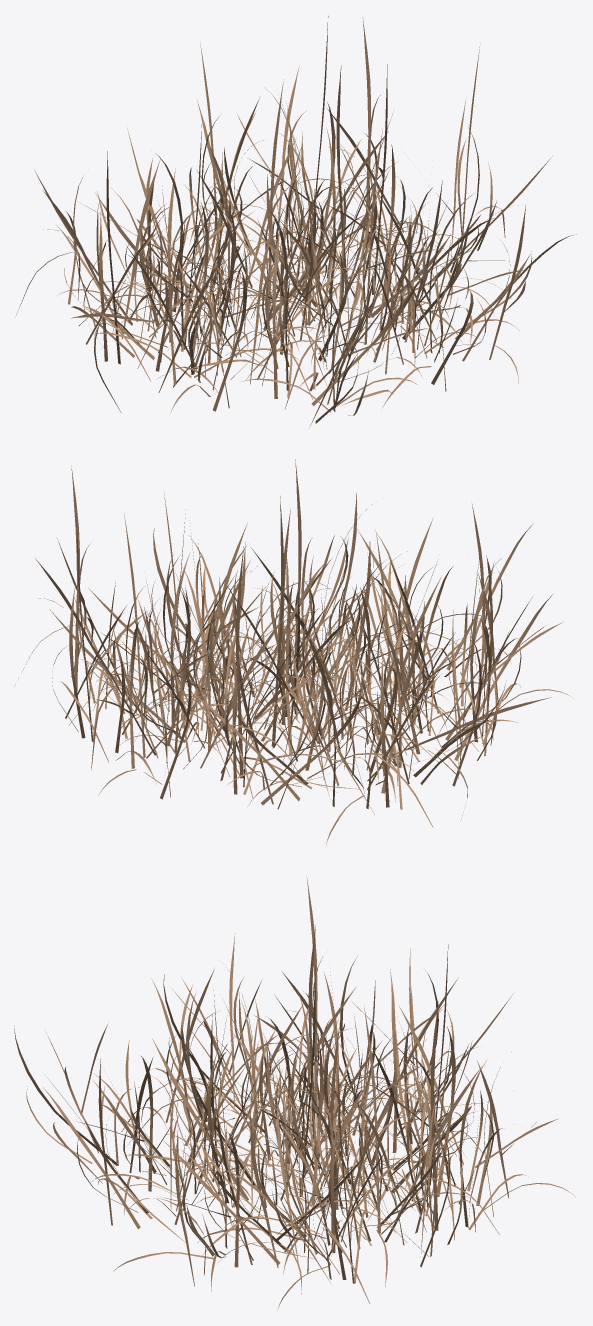
File: dry_realistic_grass_lods_1.glb
The picture shows the model from 3 angles, top to bottom: view 1: azimuth 30°, elevation 25°; view 2: azimuth 150°, elevation 25°; view 3: azimuth 270°, elevation 25°; orthographic projection.
Visible parts, largest first — view 1: Object_2; view 2: Object_2; view 3: Object_2.
Boxes of the visible parts, <box> form: Object_2: <box>16,16,576,427</box>; Object_2: <box>18,459,574,844</box>; Object_2: <box>14,876,575,1308</box>.
Bounding box in the file's own units: 5.35 × 3.02 × 5.36.
Materials: 1 (1 with a texture image).
